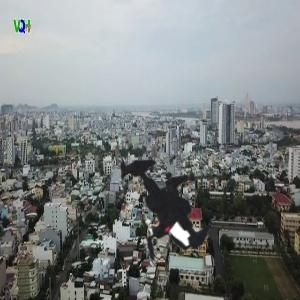drone: (68, 122, 245, 299)
